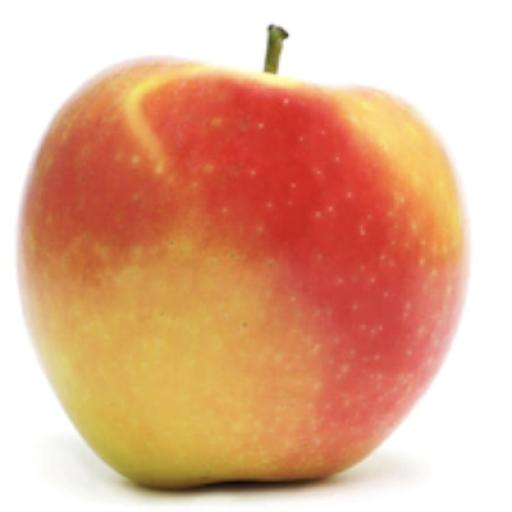apple: (18, 59, 467, 488)
